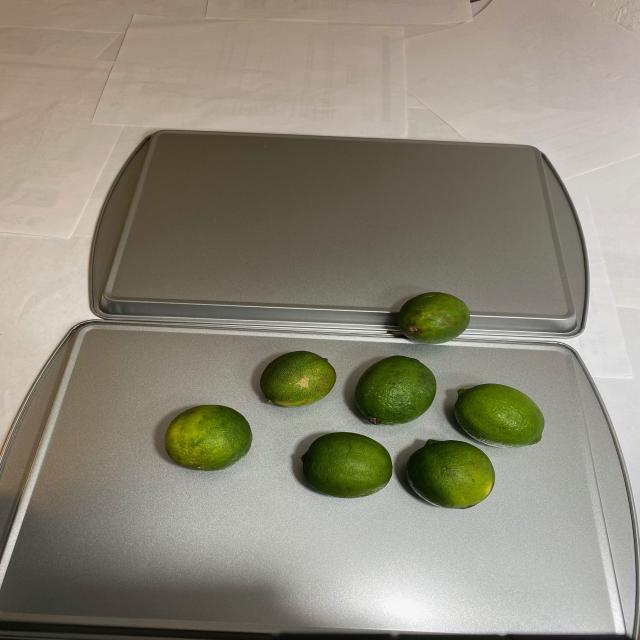lemon: (163, 292, 546, 508)
